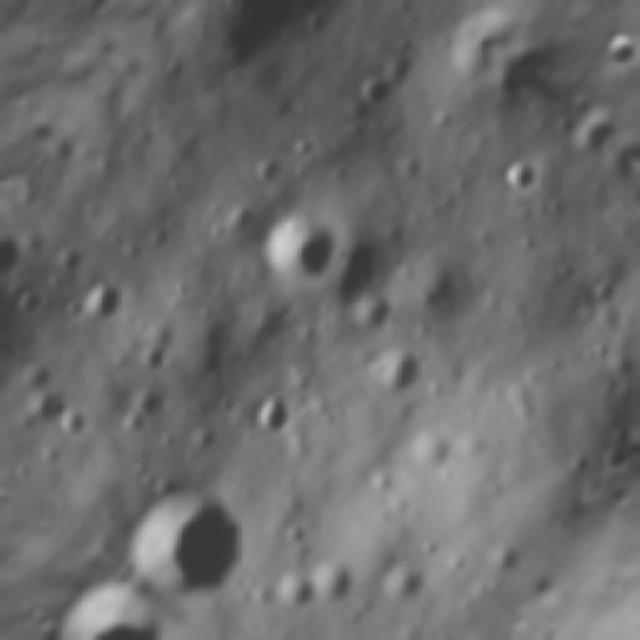crater: (104, 452, 278, 623), (249, 185, 366, 303), (0, 257, 58, 402), (358, 324, 442, 410), (229, 278, 308, 358), (236, 374, 313, 452), (342, 272, 416, 346), (74, 264, 146, 334), (373, 547, 441, 615), (303, 548, 368, 610), (260, 557, 323, 620), (496, 144, 556, 204), (352, 65, 412, 124), (0, 218, 40, 290), (46, 395, 99, 448), (248, 145, 300, 197), (7, 275, 55, 322), (221, 193, 267, 239), (29, 375, 74, 422)
